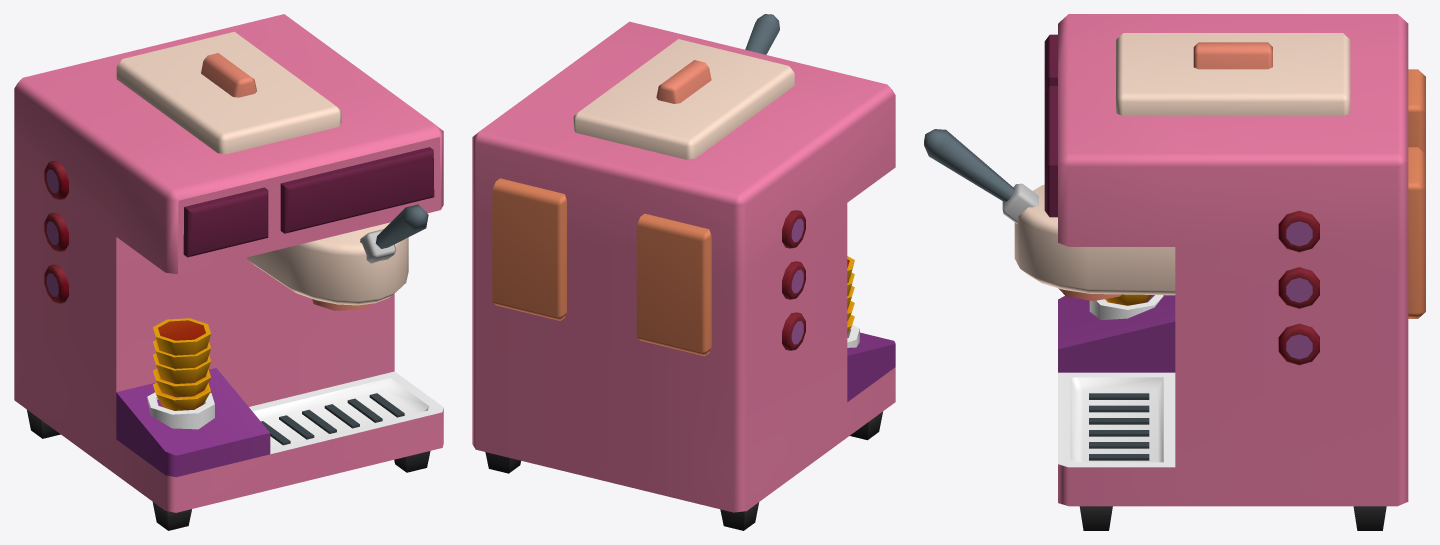
The model's file is Decor_Maylamkem_05.fbx.
The picture shows the model from 3 angles, left to right: view 1: azimuth 30°, elevation 25°; view 2: azimuth 150°, elevation 25°; view 3: azimuth 270°, elevation 25°; orthographic projection. The views are drawn at different scales.
Parts seen in each view (by area): view 1: Decor_Maylamkem_05; view 2: Decor_Maylamkem_05; view 3: Decor_Maylamkem_05.
Part boxes in pixels (bbox=[...]): Decor_Maylamkem_05: bbox=[14, 14, 443, 530]; Decor_Maylamkem_05: bbox=[472, 14, 895, 530]; Decor_Maylamkem_05: bbox=[924, 14, 1425, 530].
Size of the model in its own units: 102 by 128 by 140.
